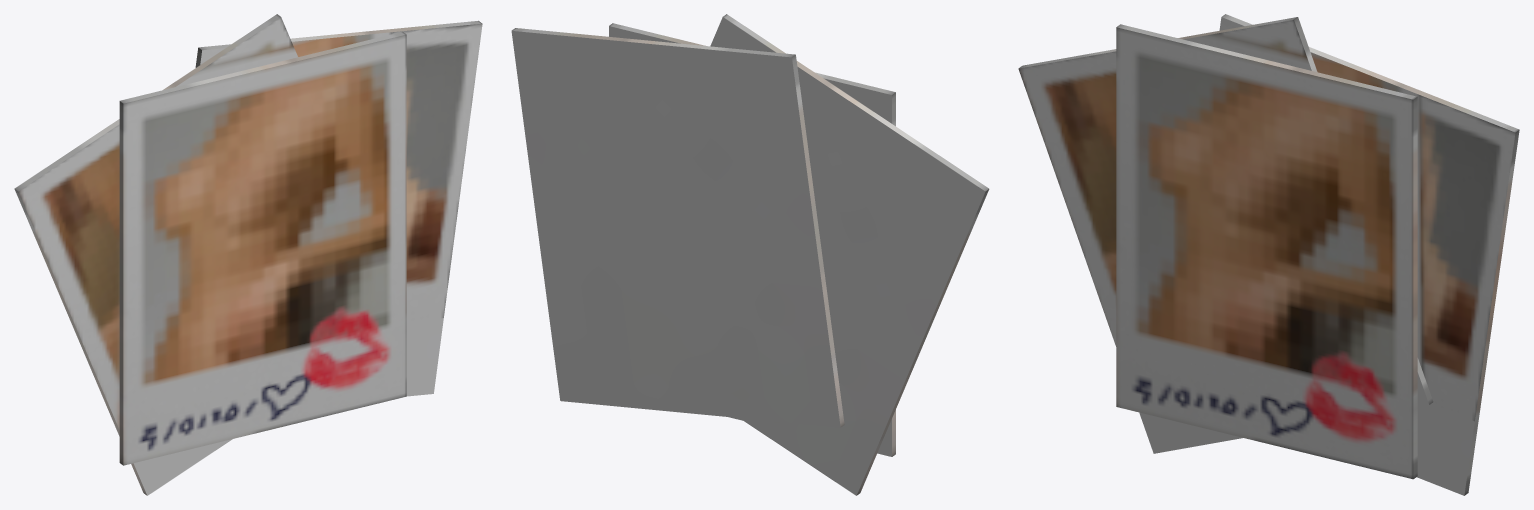
File: polaroids.FBX
3 renders of one model, left to right at view 1: azimuth 30°, elevation 25°; view 2: azimuth 150°, elevation 25°; view 3: azimuth 330°, elevation 25°, orthographic. The views are drawn at different scales.
Parts seen in each view (by area): view 1: polaroids; view 2: polaroids; view 3: polaroids.
Part boxes in pixels (x1,y1,x2,y2): polaroids: (14, 14, 482, 495); polaroids: (511, 14, 989, 495); polaroids: (1018, 14, 1519, 495).
Size of the model in its own units: 25.22 by 22.93 by 1.37.
